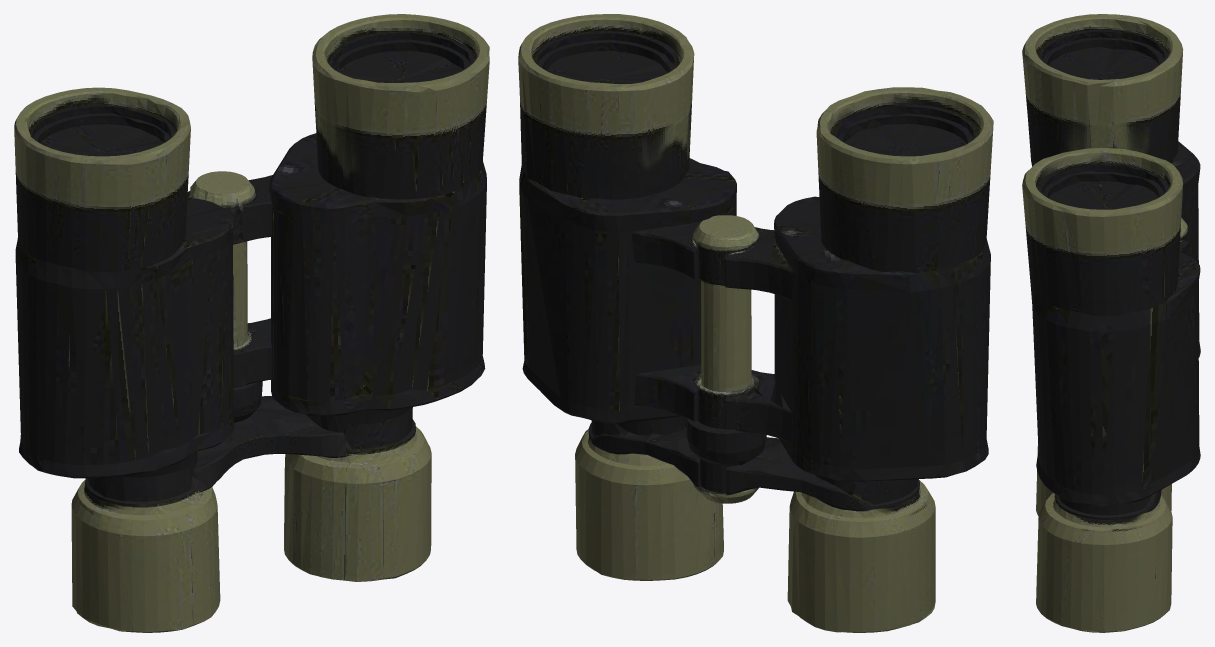
File: ewm_binoculars.glb
3 views of the same model, side by side, from view 1: azimuth 30°, elevation 25°; view 2: azimuth 150°, elevation 25°; view 3: azimuth 270°, elevation 25° (orthographic). The views are drawn at different scales.
Visible parts, largest first — view 1: ewm_binoculars; view 2: ewm_binoculars; view 3: ewm_binoculars.
Part boxes in pixels (x1=…): ewm_binoculars: x1=14, y1=14, x2=489, y2=632; ewm_binoculars: x1=518, y1=14, x2=993, y2=632; ewm_binoculars: x1=1022, y1=14, x2=1200, y2=632.
Size of the model in its own units: 0.1642 by 0.17 by 0.0618.
1 material, 1 textured.
